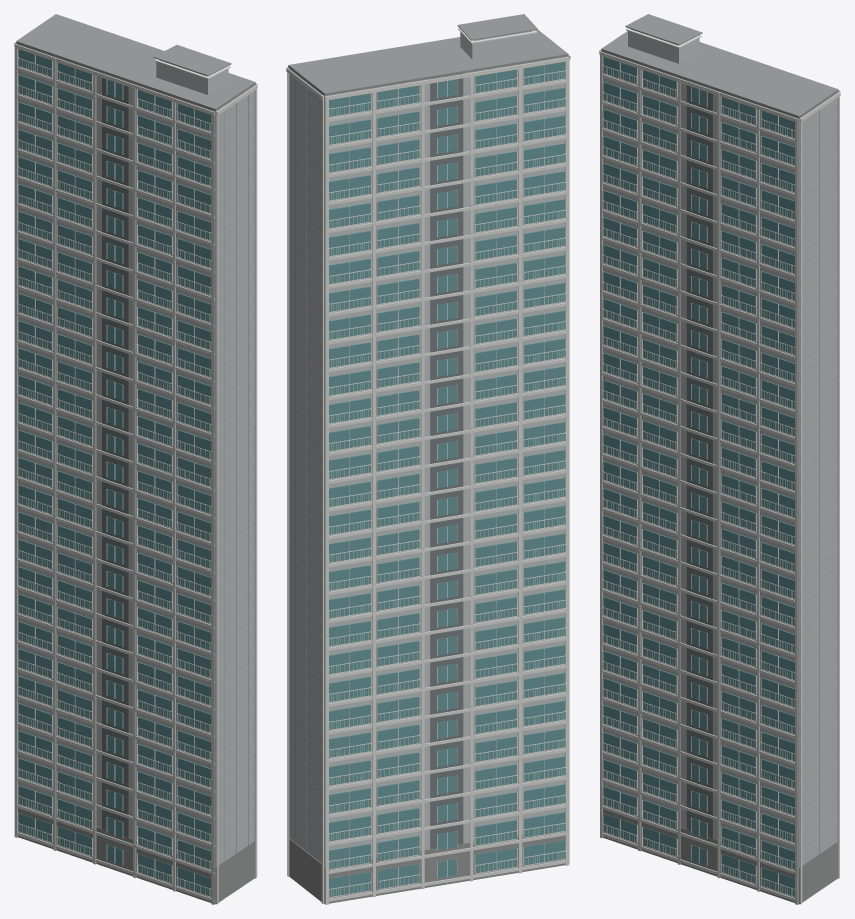
Rendered from bespoke-jamsil-ricenz-207.glb.
3 views of the same model, side by side, from view 1: azimuth 90°, elevation 25°; view 2: azimuth 150°, elevation 25°; view 3: azimuth 270°, elevation 25° (orthographic). The views are drawn at different scales.
Visible parts, largest first — view 1: Ricenz207_editable_Ricenz207_turquoise_balcony_glazing, Ricenz207_editable_Ricenz207_light_grey_solid_wall, Ricenz207_white_exact_chunk_2, Ricenz207_white_exact_chunk_3, Ricenz207_editable_Ricenz207_narrow_charcoal_service_strips, Ricenz207_editable_Ricenz207_modest_grey_flat_roof_caps, Ricenz207_white_exact_chunk_1, Ricenz207_white_exact_chunk_0, Ricenz207_editable_Ricenz207_muted_ground_wall; view 2: Ricenz207_editable_Ricenz207_turquoise_balcony_glazing, Ricenz207_editable_Ricenz207_light_grey_solid_wall, Ricenz207_white_exact_chunk_2, Ricenz207_white_exact_chunk_3, Ricenz207_white_exact_chunk_1, Ricenz207_editable_Ricenz207_narrow_charcoal_service_strips, Ricenz207_editable_Ricenz207_modest_grey_flat_roof_caps, Ricenz207_editable_Ricenz207_muted_ground_wall, Ricenz207_white_exact_chunk_0; view 3: Ricenz207_editable_Ricenz207_turquoise_balcony_glazing, Ricenz207_editable_Ricenz207_light_grey_solid_wall, Ricenz207_white_exact_chunk_1, Ricenz207_white_exact_chunk_0, Ricenz207_editable_Ricenz207_narrow_charcoal_service_strips, Ricenz207_editable_Ricenz207_modest_grey_flat_roof_caps, Ricenz207_editable_Ricenz207_muted_ground_wall.
Boxes of the visible parts, x1,y1,x2,y2 form: Ricenz207_editable_Ricenz207_turquoise_balcony_glazing: [18, 49, 211, 896]; Ricenz207_editable_Ricenz207_light_grey_solid_wall: [16, 43, 255, 866]; Ricenz207_white_exact_chunk_2: [17, 49, 214, 901]; Ricenz207_white_exact_chunk_3: [14, 44, 230, 904]; Ricenz207_editable_Ricenz207_narrow_charcoal_service_strips: [102, 73, 129, 837]; Ricenz207_editable_Ricenz207_modest_grey_flat_roof_caps: [16, 14, 255, 861]; Ricenz207_white_exact_chunk_1: [14, 42, 257, 875]; Ricenz207_white_exact_chunk_0: [216, 84, 257, 904]; Ricenz207_editable_Ricenz207_muted_ground_wall: [18, 803, 254, 904]; Ricenz207_editable_Ricenz207_turquoise_balcony_glazing: [329, 61, 565, 896]; Ricenz207_editable_Ricenz207_light_grey_solid_wall: [288, 31, 568, 865]; Ricenz207_white_exact_chunk_2: [329, 69, 565, 893]; Ricenz207_white_exact_chunk_3: [325, 28, 569, 904]; Ricenz207_white_exact_chunk_1: [286, 66, 372, 903]; Ricenz207_editable_Ricenz207_narrow_charcoal_service_strips: [430, 73, 463, 848]; Ricenz207_editable_Ricenz207_modest_grey_flat_roof_caps: [288, 14, 568, 859]; Ricenz207_editable_Ricenz207_muted_ground_wall: [289, 831, 565, 904]; Ricenz207_white_exact_chunk_0: [568, 54, 570, 863]; Ricenz207_editable_Ricenz207_turquoise_balcony_glazing: [603, 56, 794, 896]; Ricenz207_editable_Ricenz207_light_grey_solid_wall: [601, 29, 838, 867]; Ricenz207_white_exact_chunk_1: [599, 51, 840, 904]; Ricenz207_white_exact_chunk_0: [599, 49, 756, 888]; Ricenz207_editable_Ricenz207_narrow_charcoal_service_strips: [686, 80, 713, 838]; Ricenz207_editable_Ricenz207_modest_grey_flat_roof_caps: [601, 14, 838, 861]; Ricenz207_editable_Ricenz207_muted_ground_wall: [603, 805, 837, 904].
Size of the model in its own units: 22.45 by 88.33 by 23.9.
